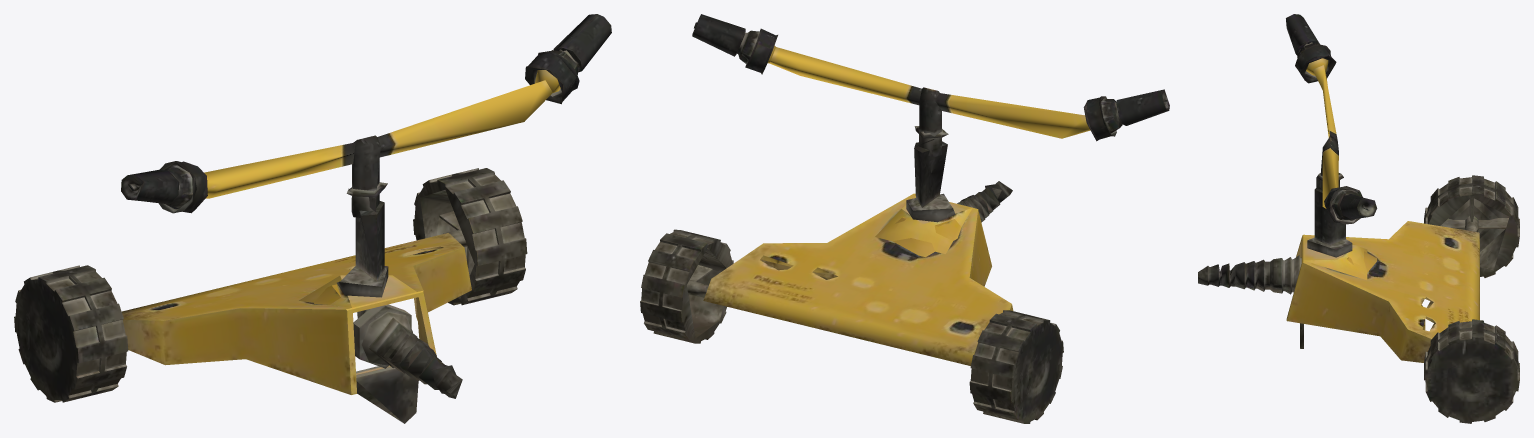
Rendered from scene-sprinkler.glb.
3 renders of one model, left to right at view 1: azimuth 30°, elevation 25°; view 2: azimuth 150°, elevation 25°; view 3: azimuth 270°, elevation 25°, orthographic. The views are drawn at different scales.
Visible parts, largest first — view 1: garden_sprinkler_01_body_main; view 2: garden_sprinkler_01_body_main; view 3: garden_sprinkler_01_body_main.
Part boxes in pixels (bbox=[...]): garden_sprinkler_01_body_main: bbox=[14, 14, 611, 423]; garden_sprinkler_01_body_main: bbox=[640, 14, 1169, 423]; garden_sprinkler_01_body_main: bbox=[1198, 14, 1519, 423].
Bounding box in the file's own units: 0.3508 × 0.2022 × 0.2491.
Materials: 1 (1 with a texture image).
